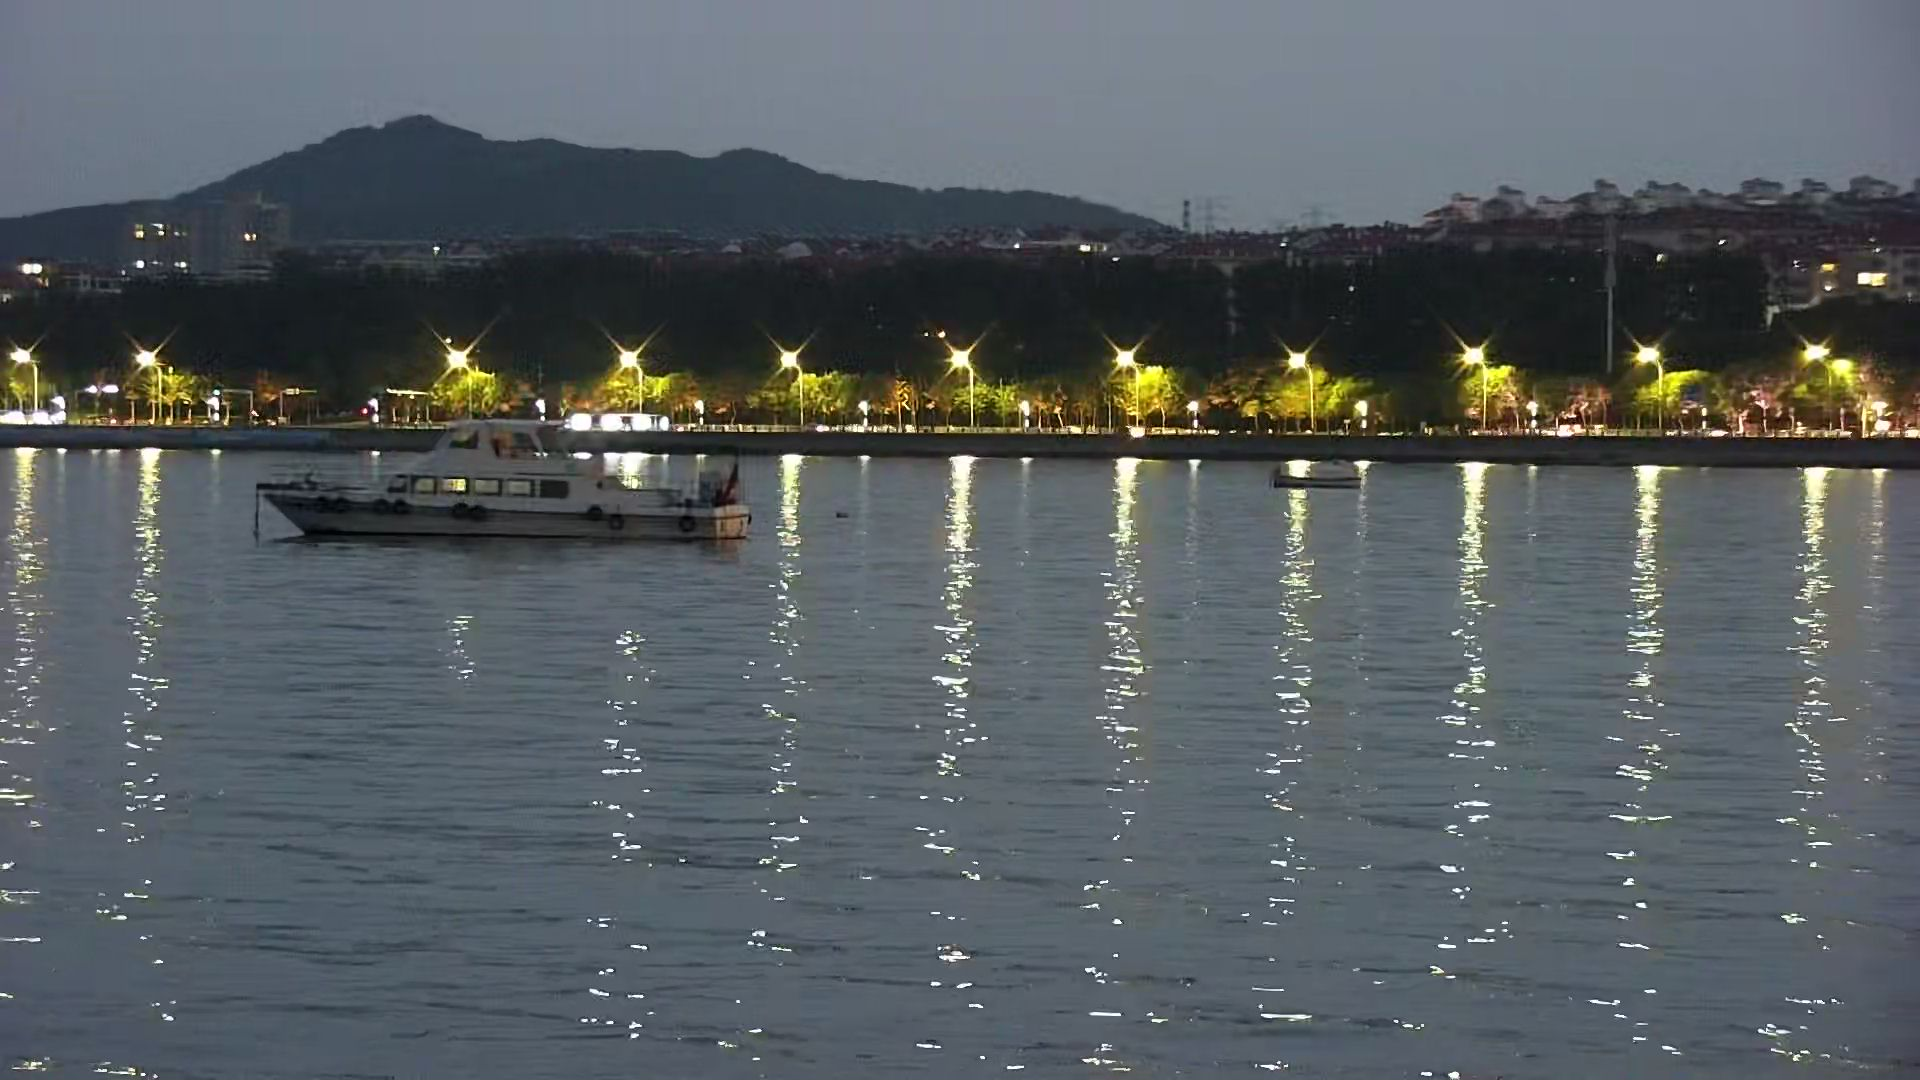boat: (1257, 467, 1377, 498)
ship: (232, 406, 771, 560)
